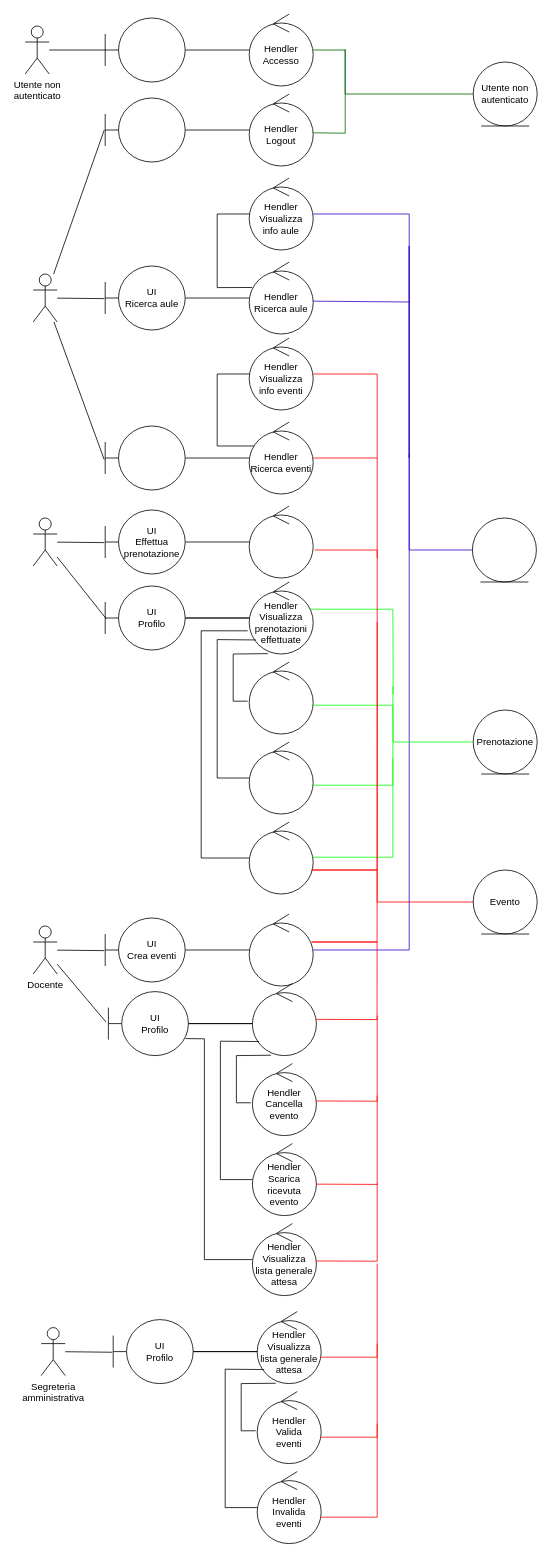
Image size: 551x1558. Some labels were removed from this diagram. The shapes that lost their labels are listed below. From the top down, each one's centre as x and y in pixels, then its label:
At pixel 144 49: "UI Accesso".
At pixel 144 129: "UI Logout".
At pixel 44 297: "Utente autenticato".
At pixel 144 457: "UI Ricerca eventi".
At pixel 44 541: "Studente".
At pixel 280 541: "Hendler Effettua prenotazione".
At pixel 504 549: "Aula".
At pixel 280 697: "Hendler Cancella prenotazione".
At pixel 280 777: "Hendler Scarica ricevuta pren.".
At pixel 280 857: "Hendler Visualizza lista attesa".
At pixel 280 949: "Hendler Crea eventi".
At pixel 284 1019: "Hendler Visualizza eventi creati".
